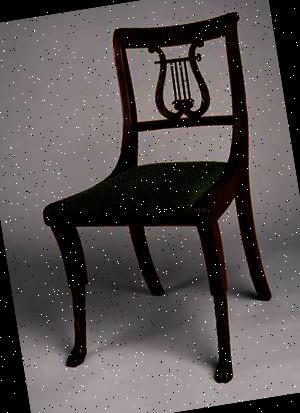Silla: (13, 11, 295, 409)
